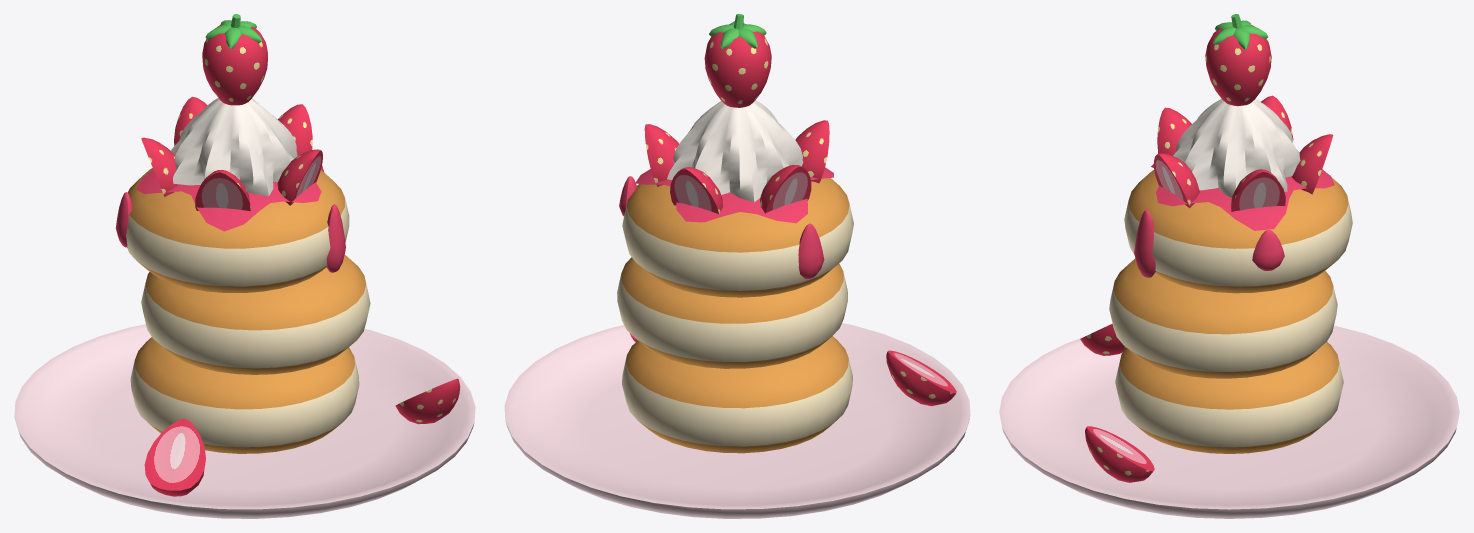
The model's file is StrawberryPancakes.glb.
3 renders of one model, left to right at view 1: azimuth 30°, elevation 25°; view 2: azimuth 150°, elevation 25°; view 3: azimuth 270°, elevation 25°, orthographic.
Parts seen in each view (by area): view 1: StrawberryPancakes; view 2: StrawberryPancakes; view 3: StrawberryPancakes.
Part boxes in pixels (x1=…): StrawberryPancakes: x1=14, y1=14, x2=475, y2=518; StrawberryPancakes: x1=504, y1=14, x2=970, y2=518; StrawberryPancakes: x1=999, y1=14, x2=1459, y2=518.
Bounding box in the file's own units: 1.53 × 1.57 × 1.53.
8 materials, 8 textured.
